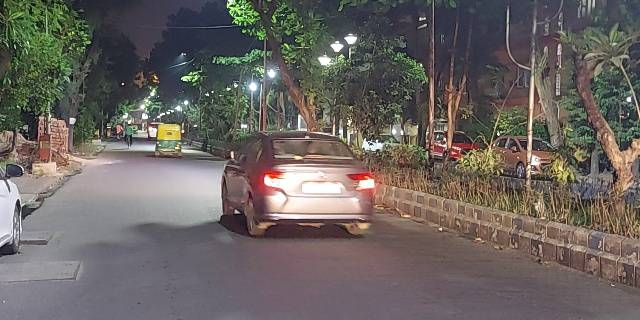Autorickshaw: (153, 122, 185, 159)
Car: (219, 128, 375, 238)
